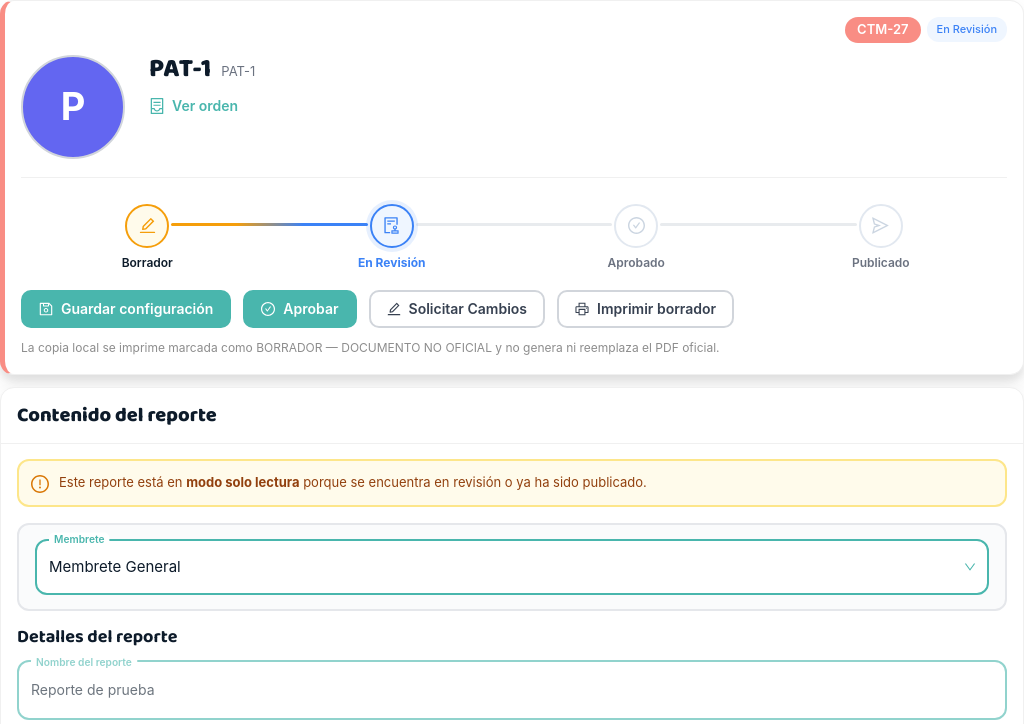
Test: Observation A — letterhead selector across the lifecycle › changing the letterhead preserves clinical content and updates the preview
The width and height of the screenshot is (1024, 724).
Expected: the element with test id "letterhead-panel" is shown, [17,523,1007,611]
Press the mouse on the element showing "Membrete General" at {"x": 115, "y": 566}, box [49,557,181,576]
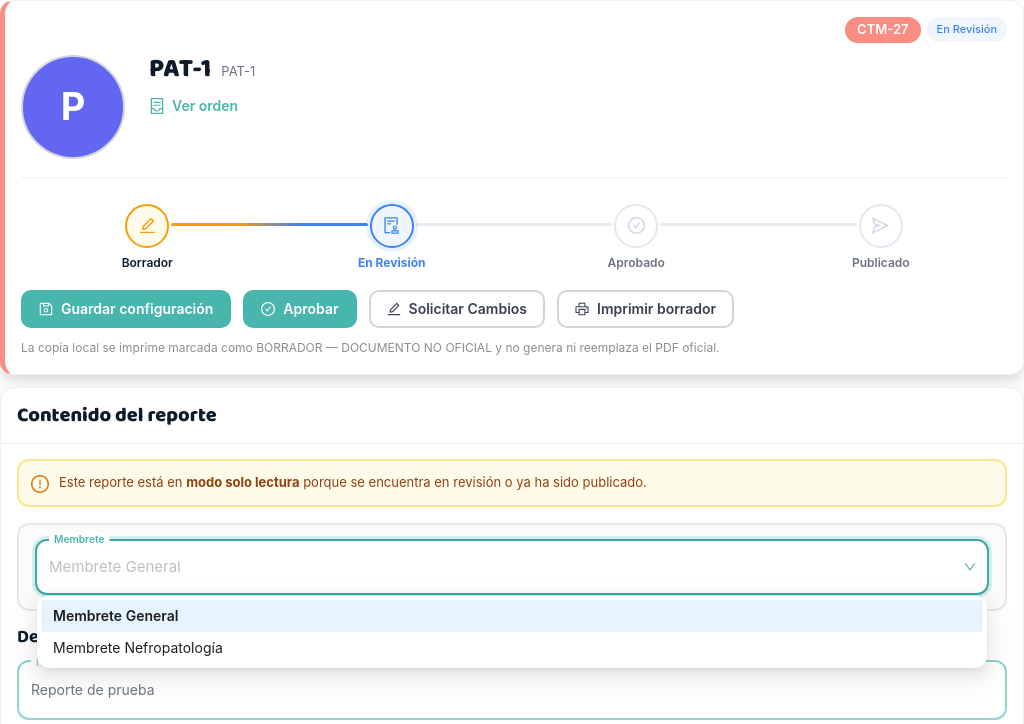
Result: the element showing "Membrete General" is shown at [41,600,983,632]
Click the element showing "Membrete Nefropatología" at {"x": 138, "y": 648}, box [53,639,223,656]
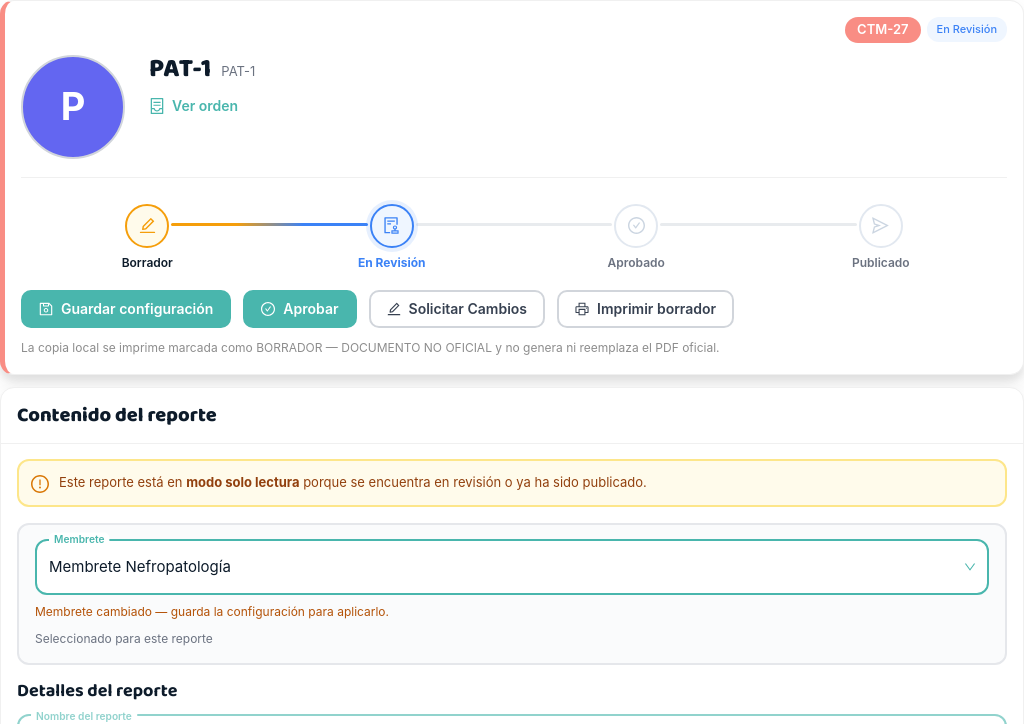
Result: the text "Membrete Nefropatología" is shown at [49,557,231,576]
Result: the text "Membrete cambiado — guarda la configuración para aplicarlo." is shown at [35,604,389,619]
